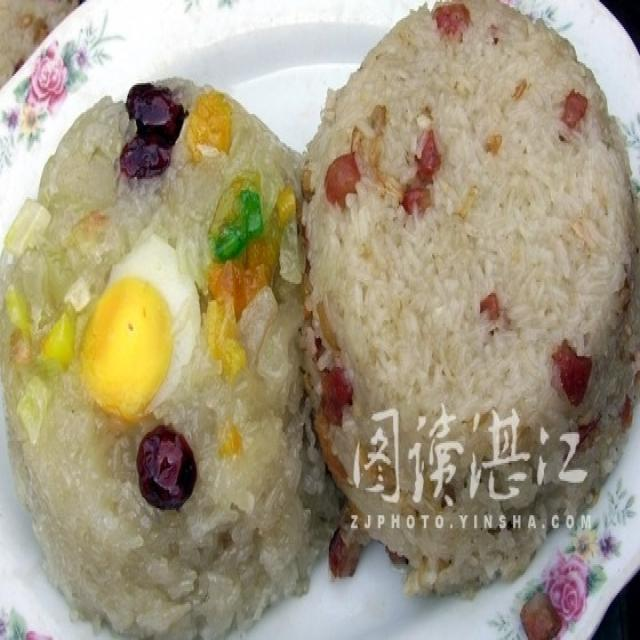米饭主食: (6, 4, 632, 629)
